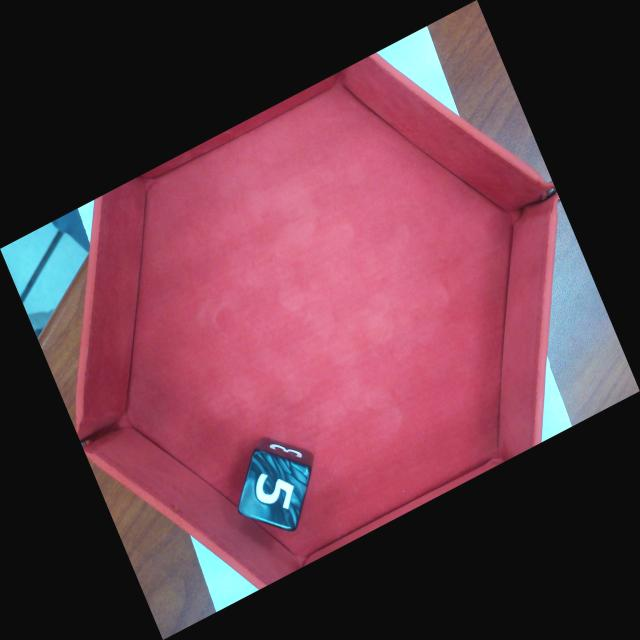dice: (235, 446, 313, 533)
